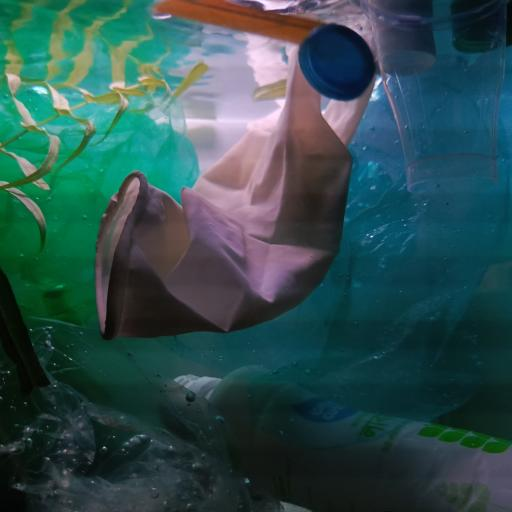bottle_cap: (297, 23, 375, 102), (376, 26, 438, 76), (452, 20, 512, 52)
glove: (91, 42, 375, 342)
plastic_bag: (217, 80, 512, 418), (0, 320, 276, 512), (0, 83, 201, 321)
plastic_bottle: (164, 361, 512, 512)
plastic_cup: (350, 0, 512, 195)
plastic_straw: (154, 0, 318, 45)
